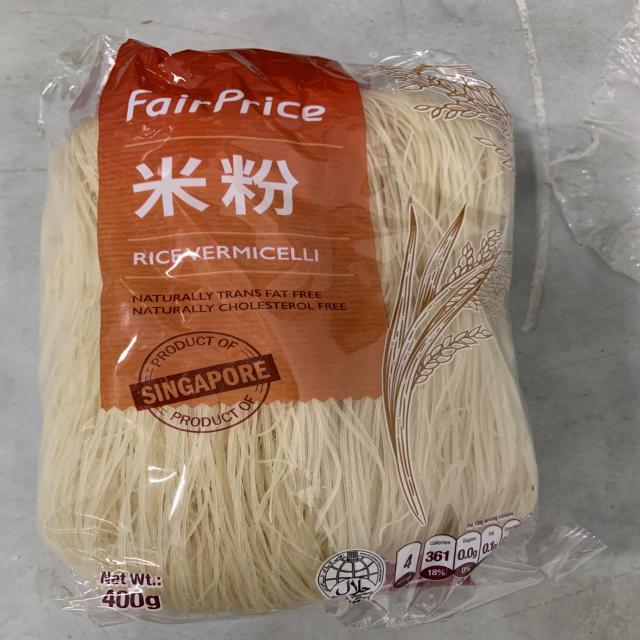object_name: (47, 42, 527, 615)
